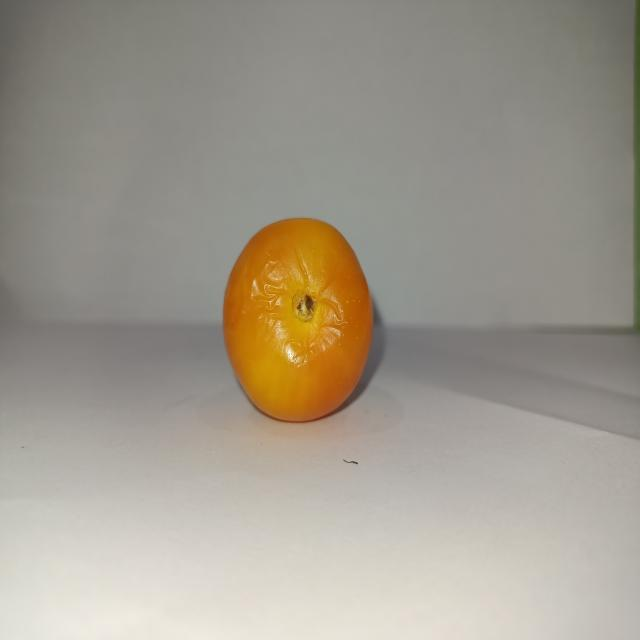Red: (221, 216, 374, 423)
